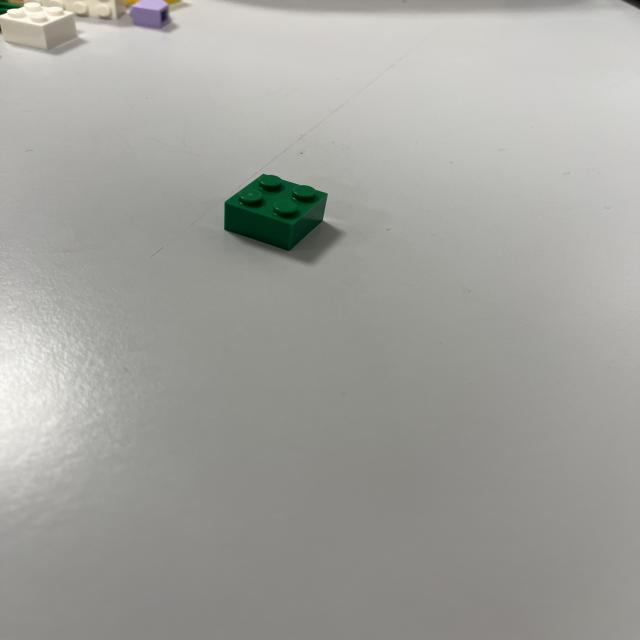C2x2x1: (226, 172, 331, 250)
